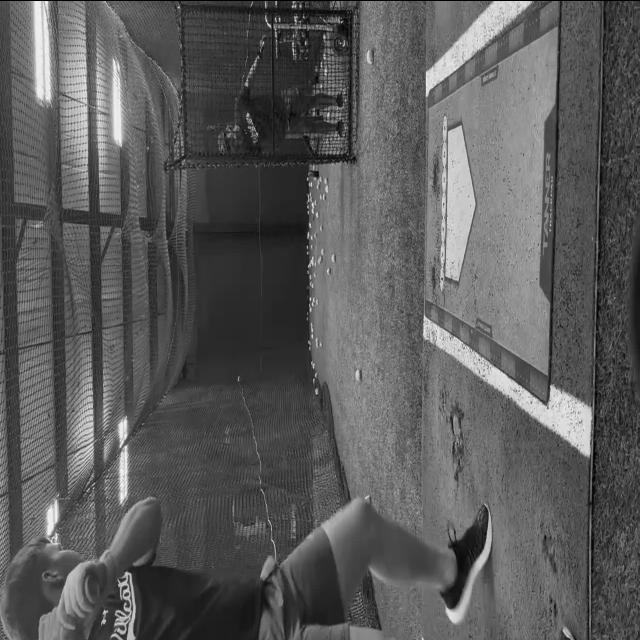baseball: (366, 49, 374, 64), (356, 369, 362, 381), (326, 267, 331, 275), (332, 254, 336, 262)
baseball_glove: (57, 549, 116, 637)
shoe: (438, 502, 492, 624), (336, 86, 347, 109), (558, 626, 576, 640), (336, 119, 347, 139)
